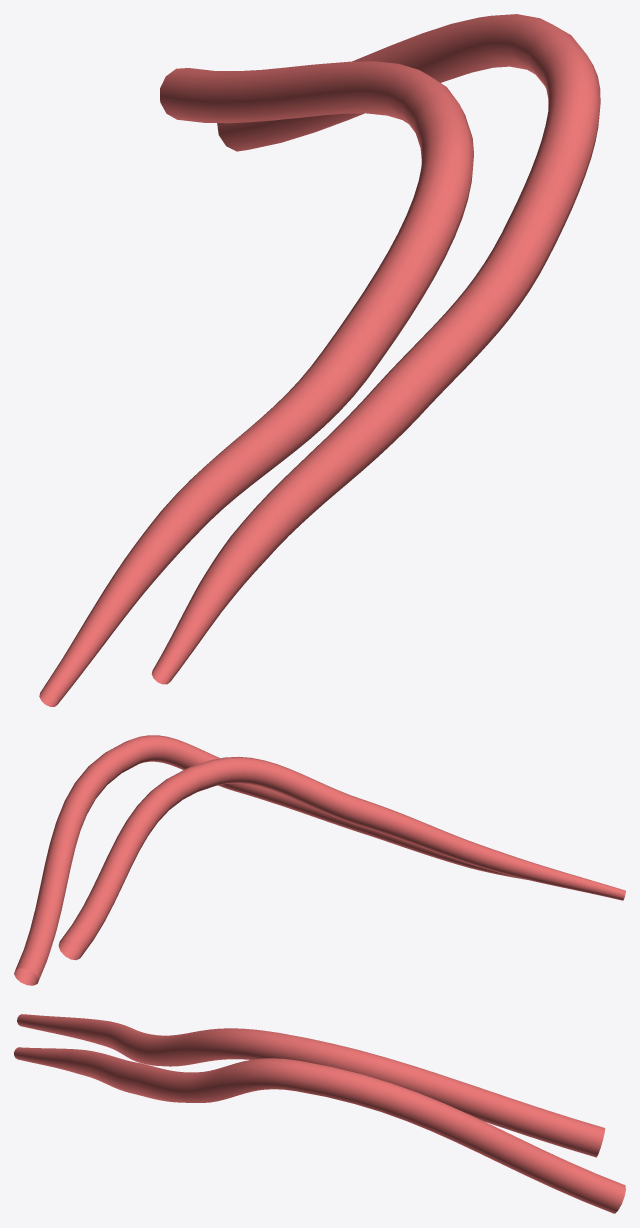
File: Short_posterior_ciliary_arteries.r_BezierCurve.375.glb
3 views of the same model, one above another, from view 1: azimuth 30°, elevation 25°; view 2: azimuth 150°, elevation 25°; view 3: azimuth 270°, elevation 25° (orthographic). The views are drawn at different scales.
Parts seen in each view (by area): view 1: Short_posterior_ciliary_arteries.r_BezierCurve.375; view 2: Short_posterior_ciliary_arteries.r_BezierCurve.375; view 3: Short_posterior_ciliary_arteries.r_BezierCurve.375.
Part boxes in pixels (x1,y1,x2,y2): Short_posterior_ciliary_arteries.r_BezierCurve.375: [39, 14, 600, 706]; Short_posterior_ciliary_arteries.r_BezierCurve.375: [14, 735, 625, 985]; Short_posterior_ciliary_arteries.r_BezierCurve.375: [14, 1014, 625, 1213].
Size of the model in its own units: 0.00868 by 0.00319 by 0.00971.
